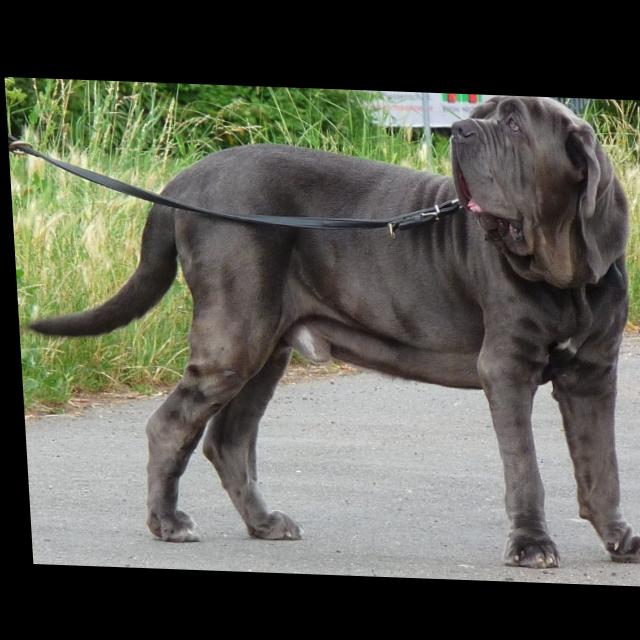mastino_napoletano: (12, 78, 640, 569)
